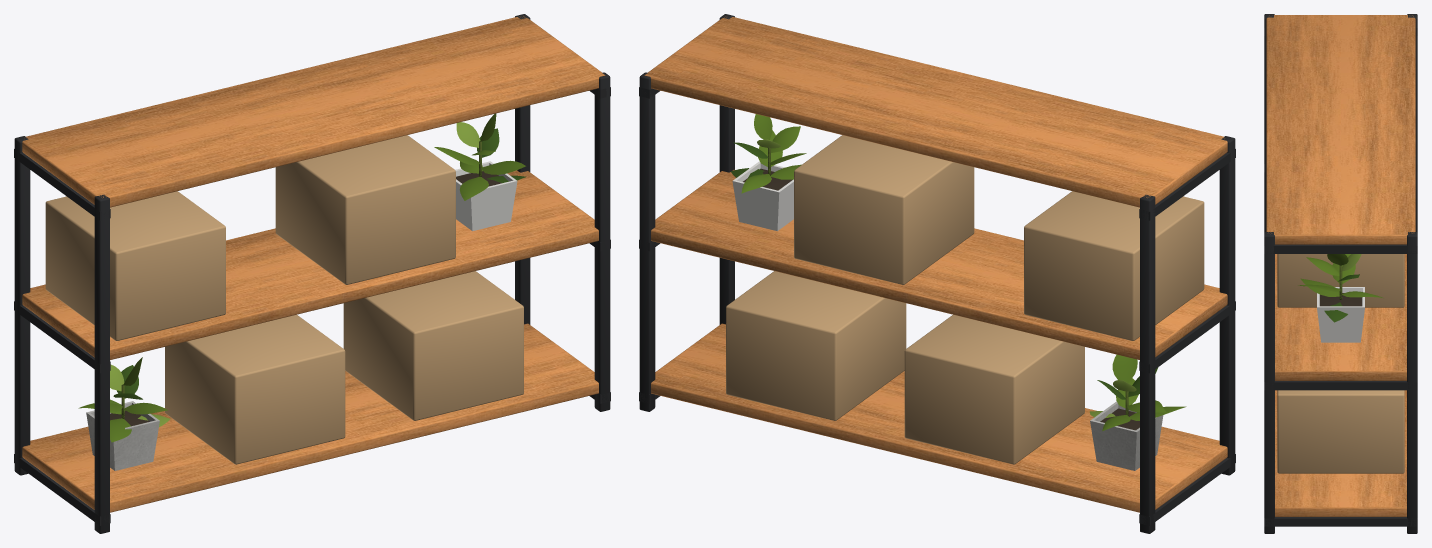
File: storage.low-shelf-console.glb
3 views of the same model, side by side, from view 1: azimuth 30°, elevation 25°; view 2: azimuth 150°, elevation 25°; view 3: azimuth 270°, elevation 25° (orthographic). The views are drawn at different scales.
Visible parts, largest first — view 1: storage.low-shelf-console.001; view 2: storage.low-shelf-console.001; view 3: storage.low-shelf-console.001.
Part boxes in pixels (x1=…): storage.low-shelf-console.001: x1=14, y1=14, x2=610, y2=533; storage.low-shelf-console.001: x1=639, y1=14, x2=1235, y2=533; storage.low-shelf-console.001: x1=1264, y1=14, x2=1417, y2=533.
Bounding box in the file's own units: 1.2 × 0.75 × 0.35.
10 materials, 2 textured.
